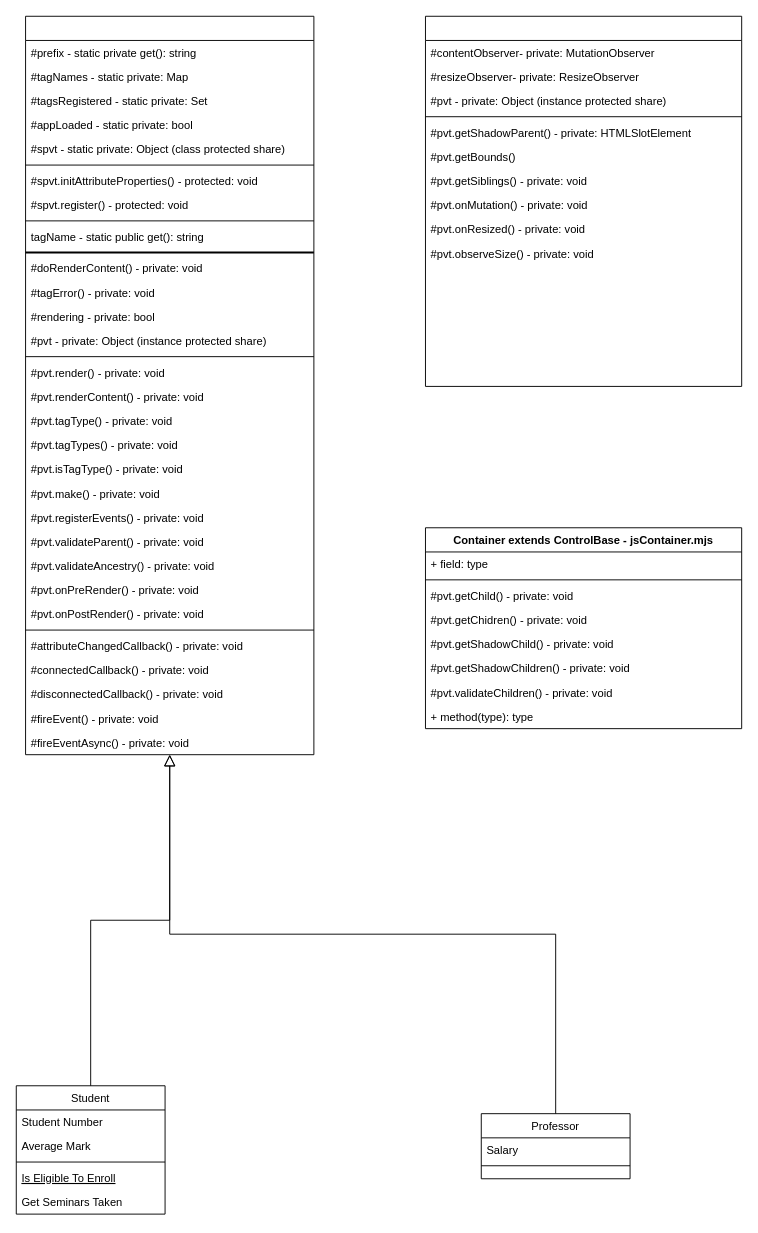
This 758x1233 diagram has some shape labels left out. Each missing label, with the box of its shape:
Base extends HTMLElement - jsBase.mjs: (25, 15, 314, 755)
ControlBase extends Base - jsControlBase.mjs: (425, 15, 742, 386)
